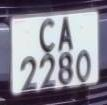0: (74, 49, 94, 87)
2: (18, 51, 40, 94), (38, 53, 58, 90)
8: (56, 50, 75, 88)
A: (56, 14, 75, 55)
C: (37, 17, 58, 56)
